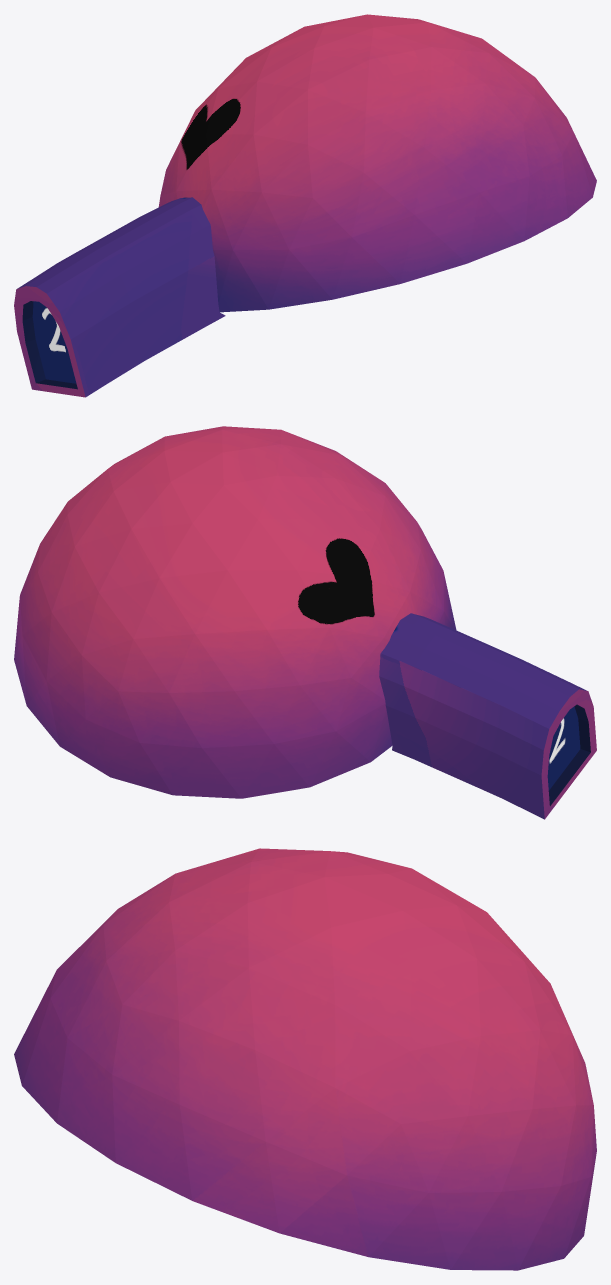
The picture shows the model from 3 angles, top to bottom: view 1: azimuth 30°, elevation 25°; view 2: azimuth 150°, elevation 25°; view 3: azimuth 270°, elevation 25°; orthographic projection. The views are drawn at different scales.
Visible parts, largest first — view 1: Icosphere.002; view 2: Icosphere.002; view 3: Icosphere.002.
Part boxes in pixels (<box>): Icosphere.002: <box>14,14,596,397</box>; Icosphere.002: <box>14,426,596,819</box>; Icosphere.002: <box>14,848,596,1270</box>.
Size of the model in its own units: 0.6637 by 0.3392 by 0.4723.
1 material, 1 textured.
